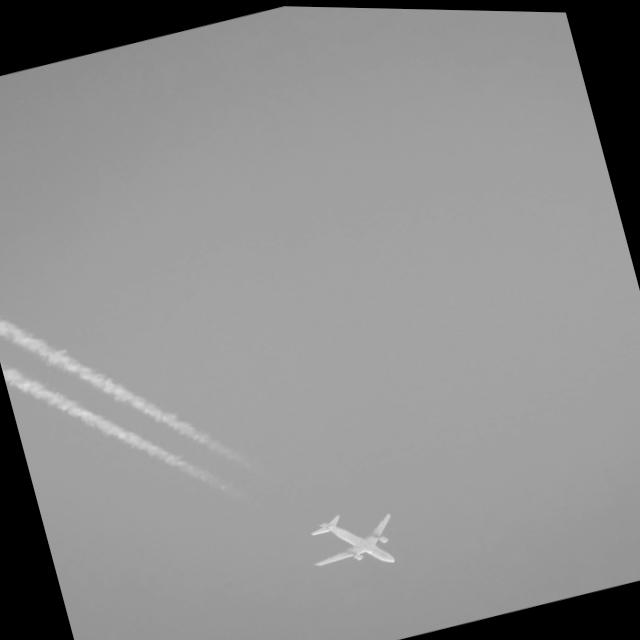aeroplane: (302, 493, 409, 581)
